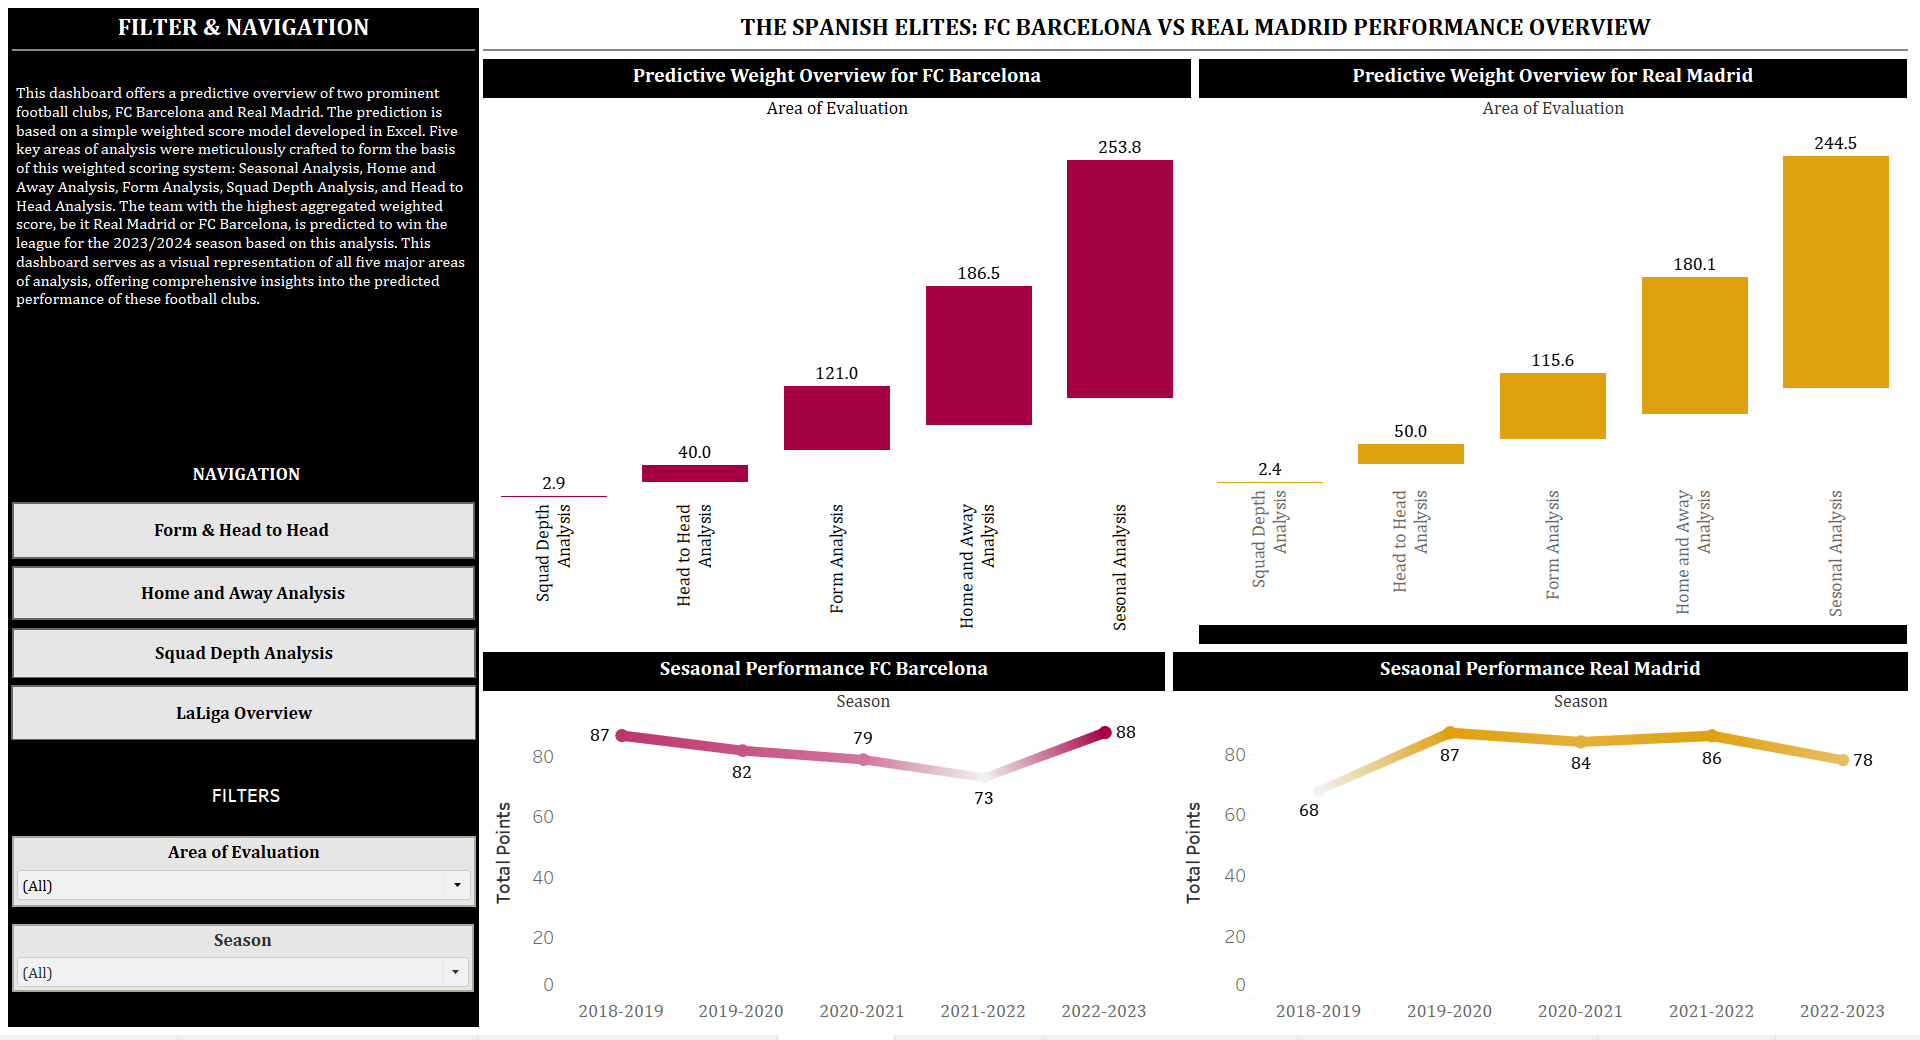

What the dashboard file says about the page in this screenshot:
{"tool":"tableau","page":{"name":"Overview","canvas":[1000,1000],"units":"permille","ordinal":3},"visuals":[{"type":"text","box":[5,9.8,244.9,45.2]},{"type":"text","box":[249.9,9.8,745.1,45.2]},{"type":"blank","box":[5,55,244.9,12.2]},{"type":"blank","box":[249.9,55,745.1,12.2]},{"type":"text","box":[5,67.2,244.9,377.8]},{"type":"worksheet","title":"FCB Overview","mark":"GanttBar","rows":["Club Crest Barcelona"],"cols":["Area of Evaluation"],"box":[249.9,67.2,372.6,558.7]},{"type":"worksheet","title":"RM Overview","mark":"GanttBar","rows":["Club Crest Real Madrid"],"cols":["Area of Evaluation"],"box":[622.5,67.2,372.6,558.7]},{"type":"text","box":[8.1,438.9,240,37.9]},{"type":"dashboard-object","box":[6.2,485.3,241.3,55]},{"type":"dashboard-object","box":[6.2,546.5,241.3,52.6]},{"type":"dashboard-object","box":[6.2,606.4,241.8,48.9]},{"type":"worksheet","title":"FCB SP","mark":"Line","rows":["TP"],"cols":["Season"],"box":[249.9,625.9,358.7,364.3]},{"type":"worksheet","title":"RM SP","mark":"Line","rows":["TP"],"cols":["Season"],"box":[608.6,625.9,386.4,364.3]},{"type":"dashboard-object","box":[5.5,661.4,242.5,53.8]},{"type":"text","box":[6.9,744.5,242.5,46.5]},{"type":"filter","title":"FCB Overview","param":"[federated.0yb8c6f0x9ztq4113btmd1eyryg3].[none:Area of Evaluation:nk]","box":[6.2,808.1,241.5,68.5]},{"type":"filter","title":"FCB SP","param":"[federated.19ghvvw1u5gm1n181quam1j7ukbh].[none:Season:nk]","box":[6.2,892.4,240.8,66]}]}

Visuals, with their boxes on the dashboard's canvas, which has no fixed pixel size, in thousandths of its width and height (x1, y1, x2, y2). These are canvas units, not pixel positions in the 1920x1040 screenshot, which may show the page scaled, cropped or inside an application window:
text: pyautogui.locateOnScreen(5, 10, 250, 55)
text: pyautogui.locateOnScreen(250, 10, 995, 55)
blank: pyautogui.locateOnScreen(5, 55, 250, 67)
blank: pyautogui.locateOnScreen(250, 55, 995, 67)
text: pyautogui.locateOnScreen(5, 67, 250, 445)
"FCB Overview" worksheet (GanttBar marks): pyautogui.locateOnScreen(250, 67, 622, 626)
"RM Overview" worksheet (GanttBar marks): pyautogui.locateOnScreen(622, 67, 995, 626)
text: pyautogui.locateOnScreen(8, 439, 248, 477)
dashboard-object: pyautogui.locateOnScreen(6, 485, 248, 540)
dashboard-object: pyautogui.locateOnScreen(6, 546, 248, 599)
dashboard-object: pyautogui.locateOnScreen(6, 606, 248, 655)
"FCB SP" worksheet (Line marks): pyautogui.locateOnScreen(250, 626, 609, 990)
"RM SP" worksheet (Line marks): pyautogui.locateOnScreen(609, 626, 995, 990)
dashboard-object: pyautogui.locateOnScreen(6, 661, 248, 715)
text: pyautogui.locateOnScreen(7, 744, 249, 791)
"FCB Overview" filter: pyautogui.locateOnScreen(6, 808, 248, 877)
"FCB SP" filter: pyautogui.locateOnScreen(6, 892, 247, 958)
